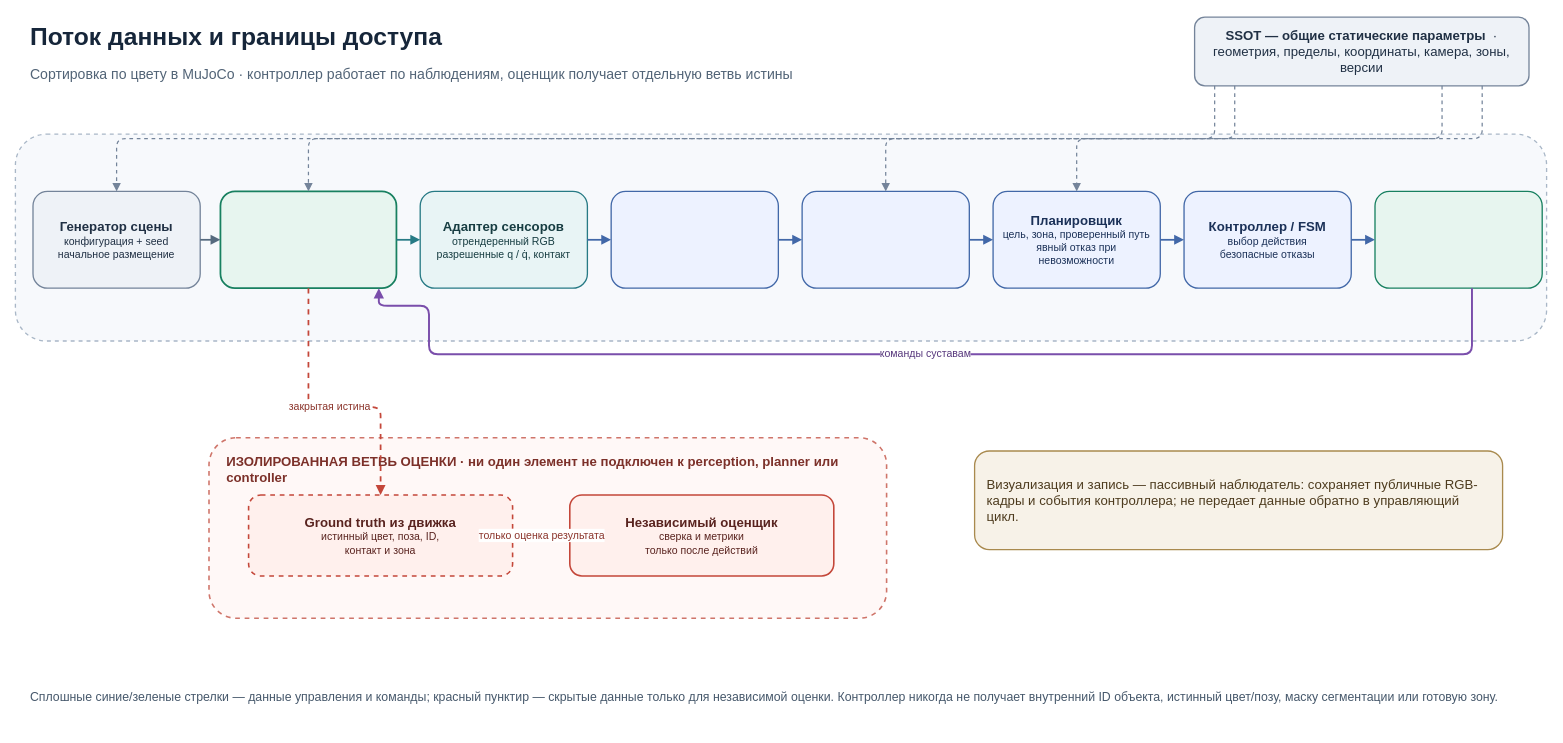
Some shapes in this 1563 by 743 pixel diagram are drawn without their labels. The shapes that lost their labels are listed below. From the top down, each one's box as (x1, y1, x2, y2) in pixels, then its label:
(219, 190, 397, 289): MuJoCo MJCF · суставы динамика и контакт
(610, 190, 779, 288): Perception класс, XY, yaw уверенность / UNKNOWN
(14, 133, 1547, 341): УПРАВЛЯЮЩИЙ КОНТУР · только наблюдения, собственная оценка и общая конфигурация
(801, 190, 970, 288): Кинематика FK / IK лимиты и допустимые решения
(1374, 190, 1542, 288): Адаптер физики задания суставам конечные скорости / усилия
